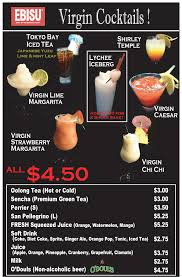not-coke: (49, 108, 91, 155)
